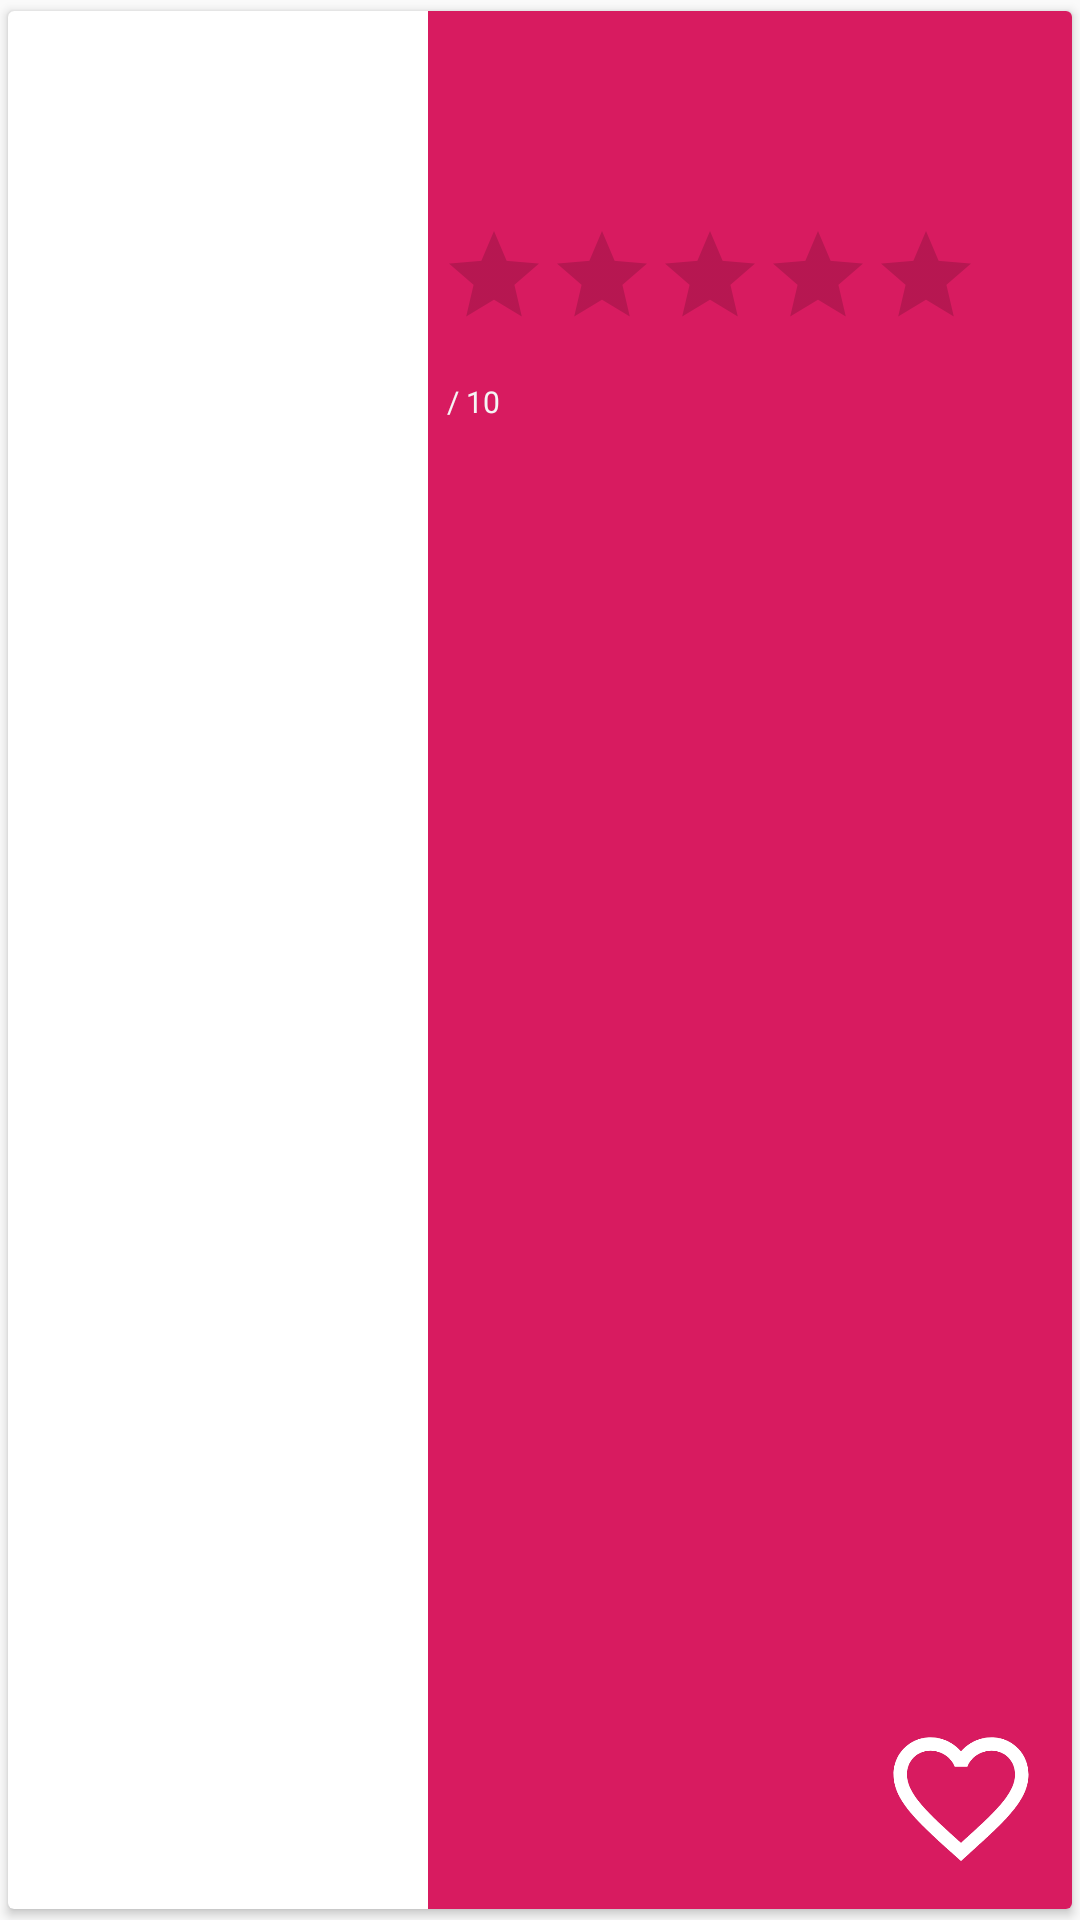

Locate icon controls on the screen. Image size 1080×1920, boxes as (x1, y1, x2, y2).
favorite border: (893, 1737, 1029, 1861)
